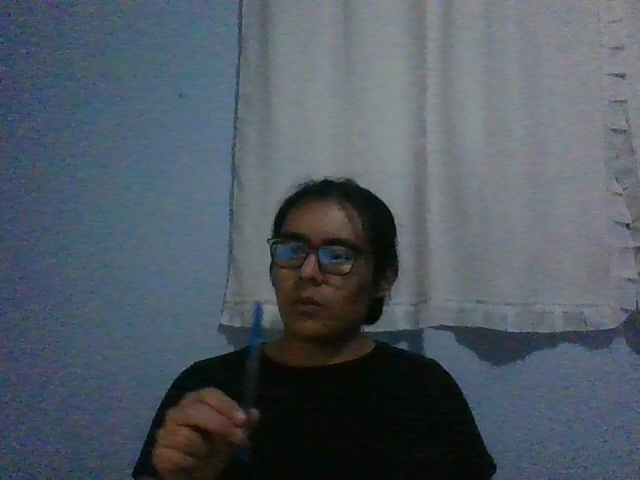pluma: (239, 299, 263, 459)
